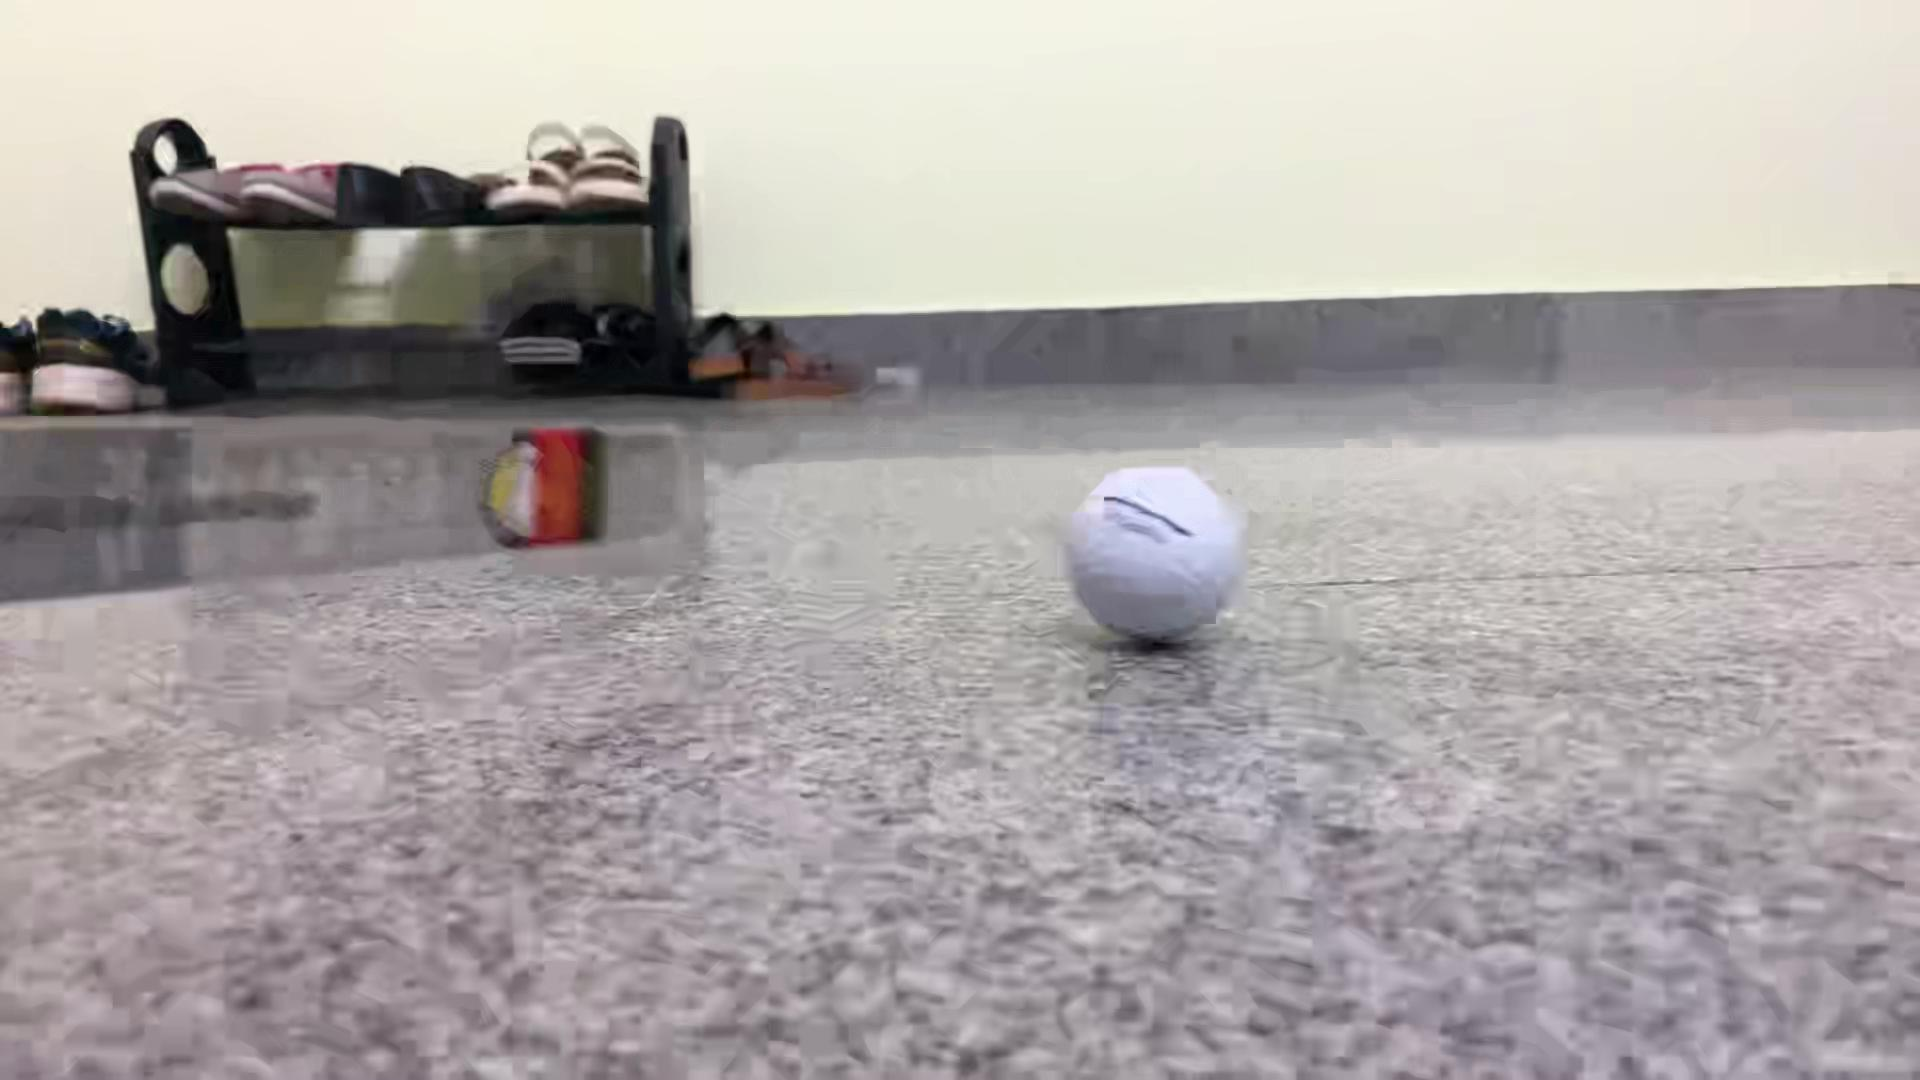golfball: (1063, 465, 1248, 639)
